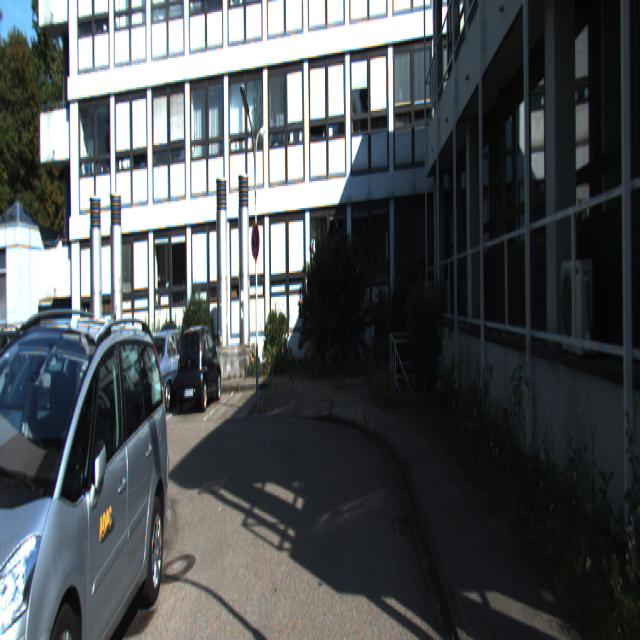Car: (0, 321, 174, 638), (0, 323, 123, 562), (136, 325, 196, 416), (175, 325, 222, 412)
